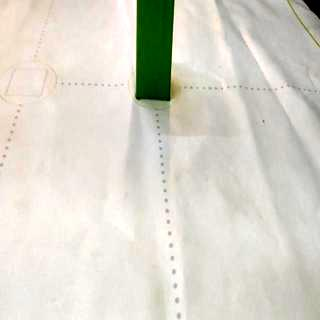greenbox: (135, 0, 176, 102)
